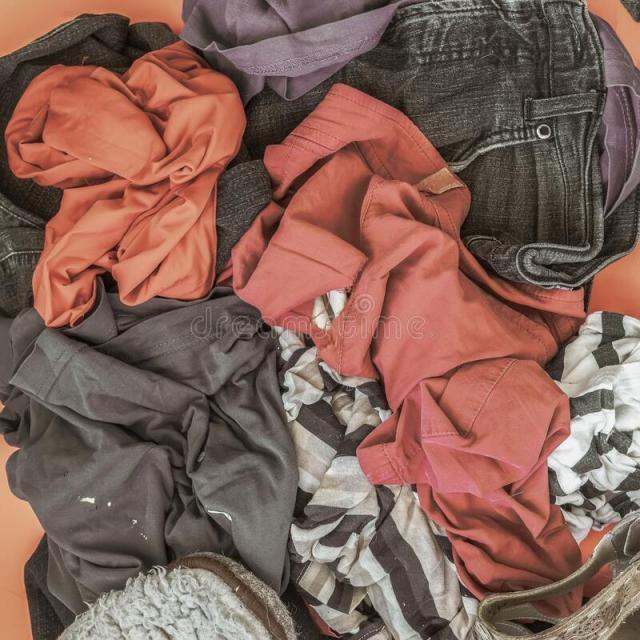clothes: (235, 81, 582, 612), (245, 0, 620, 315), (284, 314, 636, 612), (6, 280, 288, 562), (0, 43, 246, 334)
